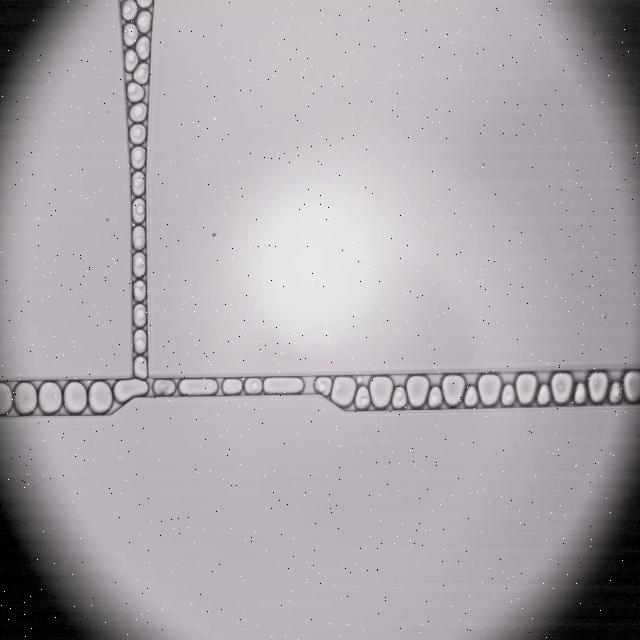L: (130, 146, 145, 169), (355, 386, 370, 409), (127, 82, 144, 102), (222, 378, 242, 395), (154, 379, 175, 395), (123, 24, 138, 46), (132, 198, 145, 223), (130, 103, 147, 122), (136, 36, 150, 59), (133, 330, 147, 353), (121, 0, 137, 20), (130, 124, 146, 144), (133, 63, 148, 84), (132, 226, 145, 250), (132, 252, 145, 276), (137, 11, 151, 33), (392, 387, 406, 409), (428, 386, 442, 408), (244, 378, 262, 395), (315, 377, 331, 396), (125, 49, 138, 72), (133, 304, 146, 327), (464, 386, 478, 407), (609, 381, 622, 403), (132, 172, 144, 195), (133, 280, 146, 301), (134, 357, 147, 378), (501, 384, 514, 405), (537, 384, 550, 405), (574, 383, 586, 404), (137, 0, 152, 7)
S: (88, 381, 112, 413), (115, 379, 148, 402), (331, 377, 356, 407), (14, 382, 37, 414), (370, 376, 393, 408), (39, 382, 62, 413), (406, 376, 429, 407), (64, 381, 86, 413), (478, 374, 501, 404), (264, 377, 303, 394), (442, 375, 464, 405), (551, 373, 573, 403), (179, 378, 217, 395), (516, 373, 536, 404), (588, 372, 607, 403), (623, 371, 640, 401), (0, 383, 12, 415)
